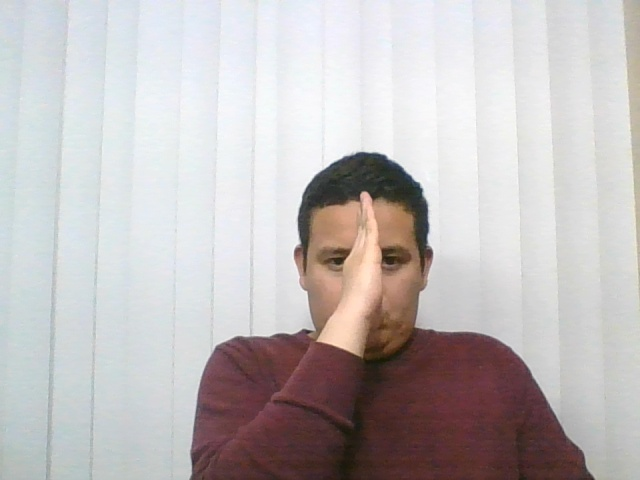God: (265, 188, 450, 370)
